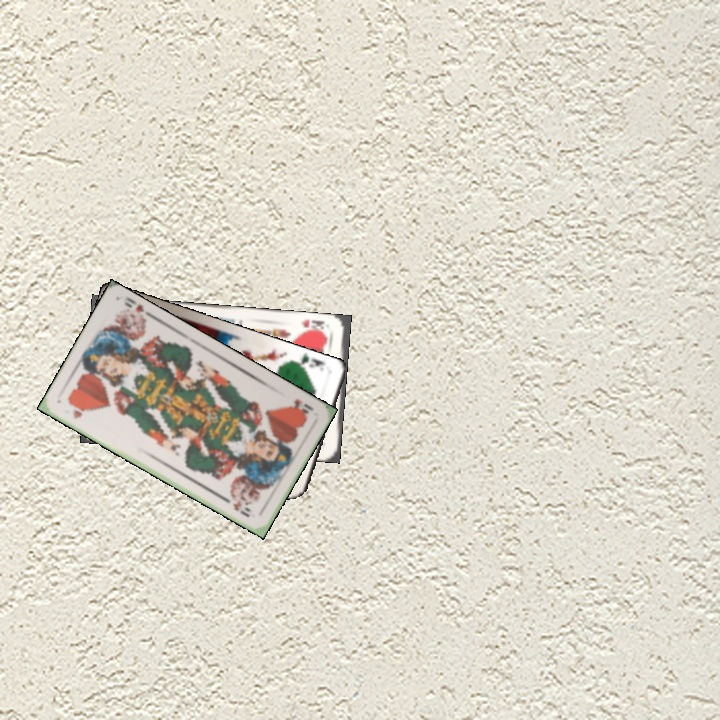GK: (291, 351, 328, 374)
HK: (297, 315, 328, 336)
HO: (285, 395, 316, 416), (64, 398, 86, 422)
